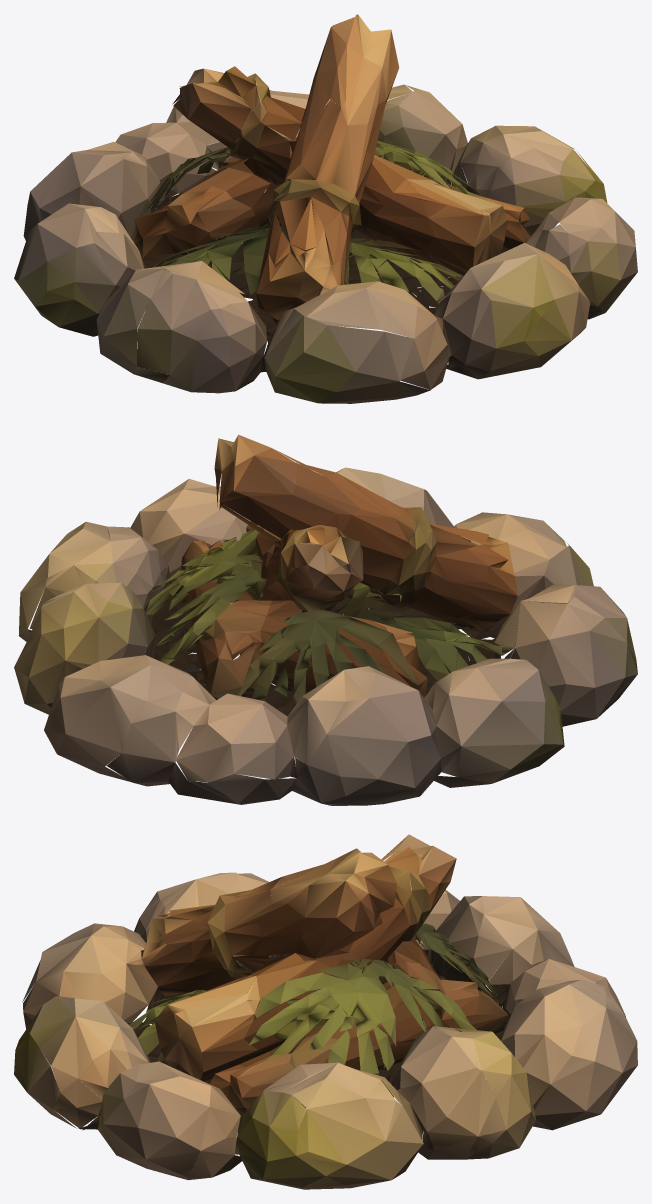
File: building-campfire.glb
3 renders of one model, top to bottom at view 1: azimuth 30°, elevation 25°; view 2: azimuth 150°, elevation 25°; view 3: azimuth 270°, elevation 25°, orthographic. The views are drawn at different scales.
Visible parts, largest first — view 1: 0_campfire; view 2: 0_campfire; view 3: 0_campfire.
Part boxes in pixels (x1,y1,x2,y2): 0_campfire: (14, 14, 637, 403); 0_campfire: (14, 434, 637, 805); 0_campfire: (14, 834, 637, 1189).
Size of the model in its own units: 1.66 by 0.75 by 1.67.
